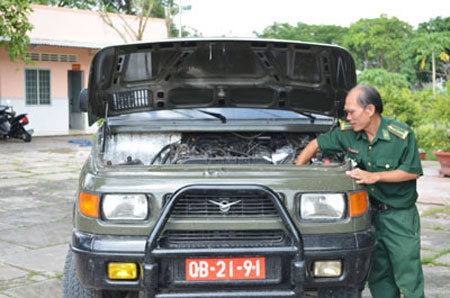plate: (182, 256, 267, 281)
